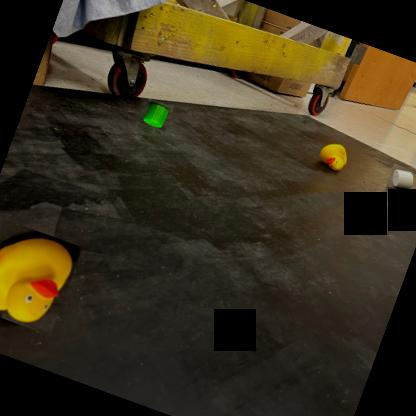duck: (0, 219, 82, 336), (313, 136, 354, 176)
green cylinder: (139, 98, 173, 132)
white cylinder: (385, 163, 416, 194)
